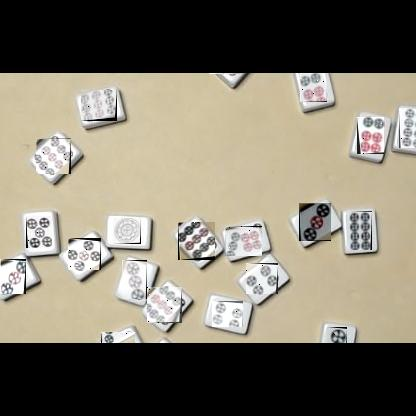1p: (113, 218, 141, 244)
2p: (327, 327, 347, 343)
3p: (299, 203, 331, 241), (122, 260, 147, 299), (0, 259, 26, 294)
4p: (246, 263, 278, 294), (212, 301, 243, 327)
5p: (68, 238, 101, 270), (26, 216, 52, 248)
6p: (357, 117, 384, 154), (300, 73, 327, 102), (209, 73, 243, 74)
7p: (225, 226, 262, 256), (101, 331, 135, 343)
8p: (348, 211, 372, 250), (399, 108, 416, 148)
9p: (178, 222, 215, 260), (36, 138, 71, 174), (147, 287, 182, 323), (81, 90, 117, 121)
